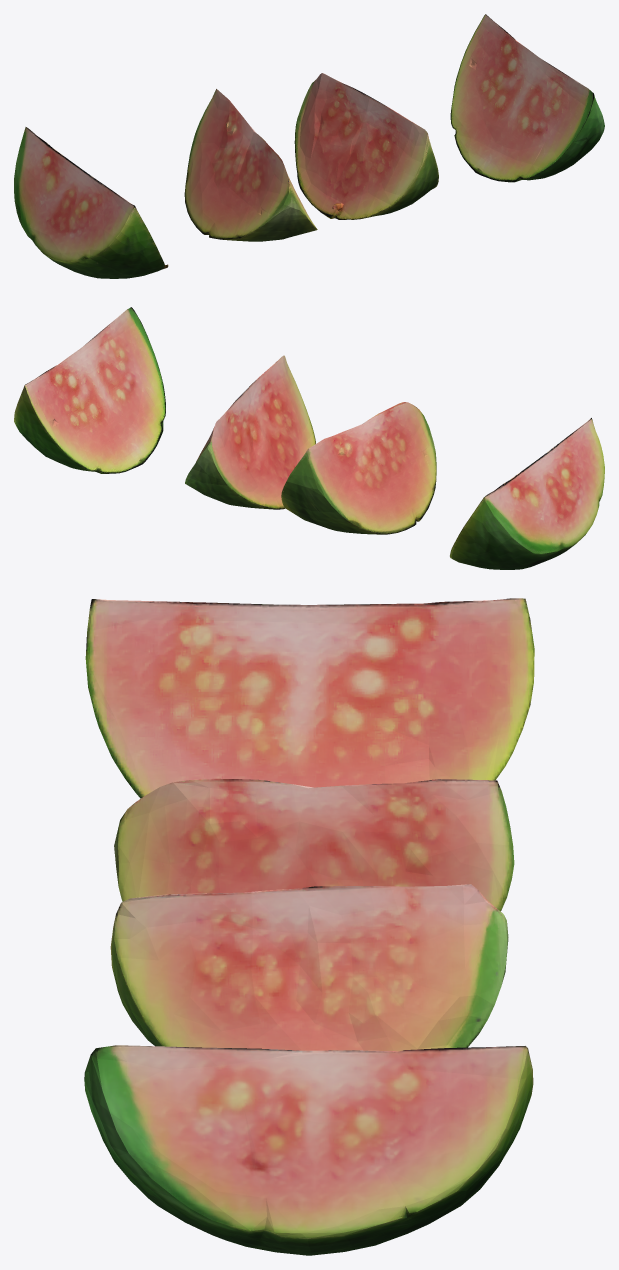
3 renders of one model, top to bottom at view 1: azimuth 30°, elevation 25°; view 2: azimuth 150°, elevation 25°; view 3: azimuth 270°, elevation 25°, orthographic. The views are drawn at different scales.
Parts seen in each view (by area): view 1: world; view 2: world; view 3: world.
Boxes of the visible parts, bbox=[...] form: world: bbox=[14, 14, 604, 278]; world: bbox=[14, 307, 604, 569]; world: bbox=[84, 598, 534, 1255].
Size of the model in its own units: 0.7006 by 0.139 by 0.2564.
1 material, 1 textured.
